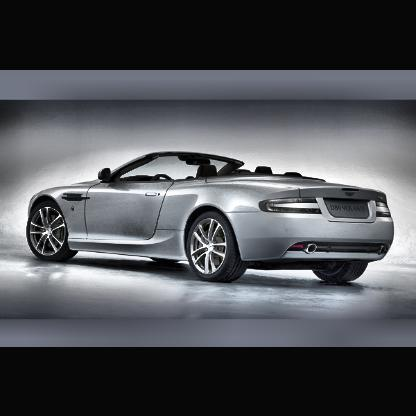Aston Martin Virage Convertible 2012: (26, 151, 396, 286)
